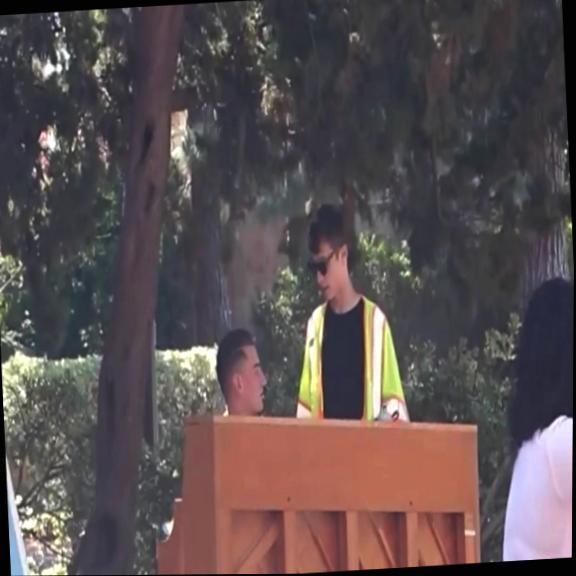safety_vest: (288, 288, 412, 428)
